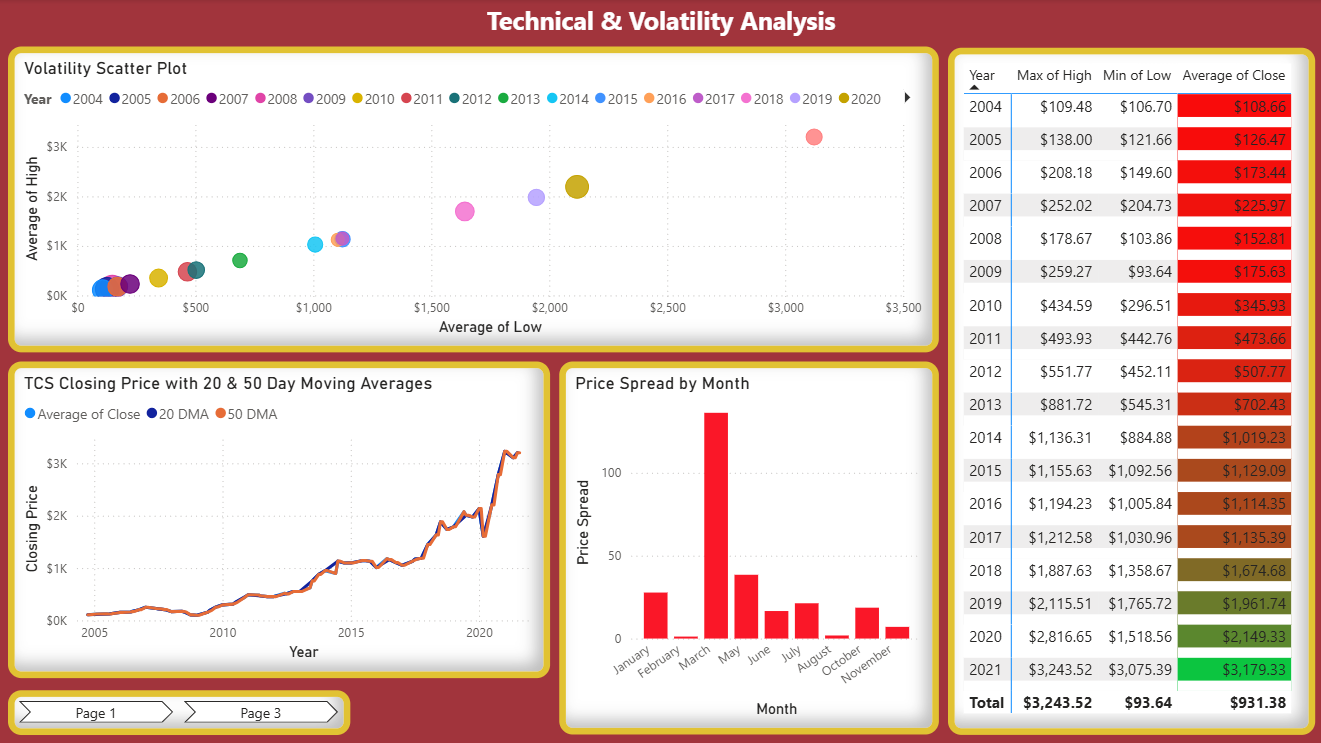

The dashboard page shown, as its layout file describes it:
{"tool":"powerbi","page":{"name":"Page 2","canvas":[1280,720],"ordinal":1},"visuals":[{"type":"pageNavigator","box":[9.7,667.2,330.6,43.4],"z":0},{"type":"textbox","box":[0,0,1280,45.8],"z":1000},{"type":"scatterChart","title":"Volatility Scatter Plot","fields":{"X":["Avg(TCS_stock_history.Low)"],"Y":["Avg(TCS_stock_history.High)"],"Category":["Calender.Date.Variation.Date Hierarchy.Year"],"Size":["TCS_stock_history.Total Volume"],"Series":["Calender.Date.Variation.Date Hierarchy.Year"]},"box":[9.7,45.8,898.8,295.6],"z":2000},{"type":"pivotTable","title":"Yearly Performance Matrix","fields":{"Rows":["Calender.Date.Variation.Date Hierarchy.Year"],"Values":["Max(TCS_stock_history.High)","Min(TCS_stock_history.Low)","Avg(TCS_stock_history.Close)"]},"box":[916.9,47.1,354.7,663.5],"z":3000},{"type":"clusteredColumnChart","fields":{"Y":["TCS_stock_history.Price Spread"],"Category":["Calender.Date.Variation.Date Hierarchy.Month"]},"box":[541.7,350,366.7,360],"z":4000},{"type":"lineChart","title":"TCS Closing Price with 20 & 50 Day Moving Averages","fields":{"Y":["Avg(TCS_stock_history.Close)","TCS_stock_history.20 DMA","TCS_stock_history.50 DMA"],"Category":["Calender.Date.Variation.Date Hierarchy.Year","Calender.Date.Variation.Date Hierarchy.Quarter","Calender.Date.Variation.Date Hierarchy.Month","Calender.Date.Variation.Date Hierarchy.Day"]},"box":[9.7,349.9,523.6,305.2],"z":6000}]}

Visuals, with their boxes in screenshot pixels (x1, y1, x2, y2), scaled from the page's 1280x720 canvas onto the 1321x743 screenshot:
pageNavigator: 10/689/351/733
textbox: 0/0/1320/47
"Volatility Scatter Plot" scatterChart: 10/47/938/352
"Yearly Performance Matrix" pivotTable: 946/49/1312/733
clusteredColumnChart - TCS_stock_history.Price Spread x Calender.Date.Variation.Date Hierarchy.Month: 559/361/937/733
"TCS Closing Price with 20 & 50 Day Moving Averages" lineChart: 10/361/550/676
